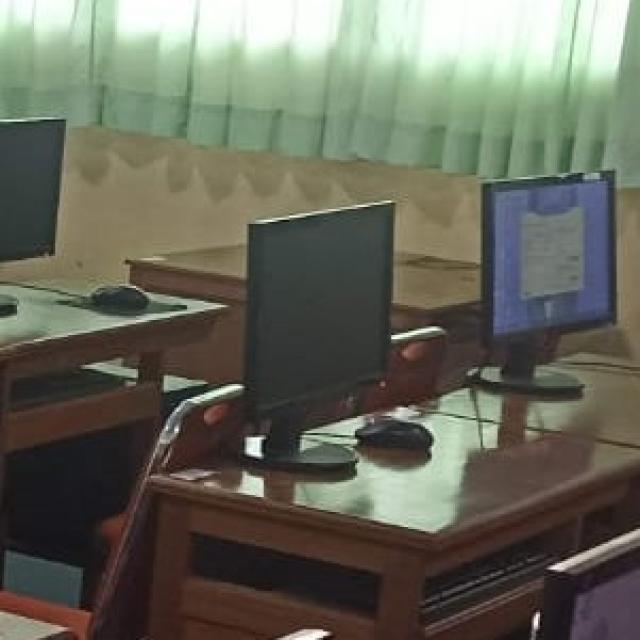offscreen: (245, 203, 394, 408), (0, 119, 64, 260)
onscreen: (482, 172, 615, 382)
